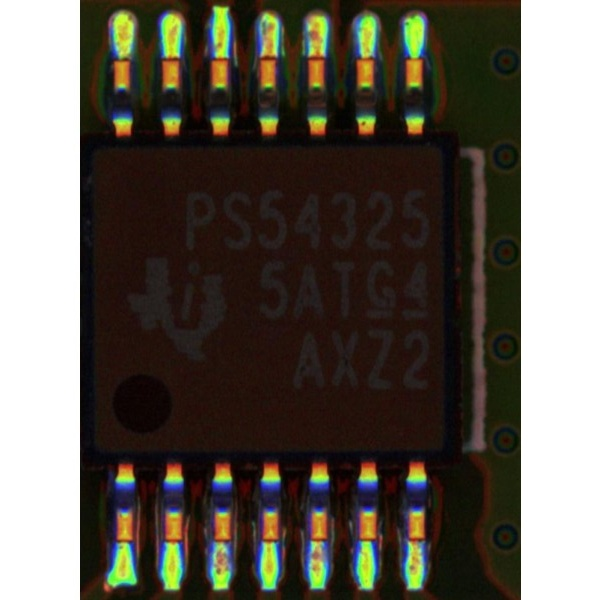Bad_podu: (308, 43, 320, 67), (408, 531, 420, 555), (261, 43, 272, 68)
